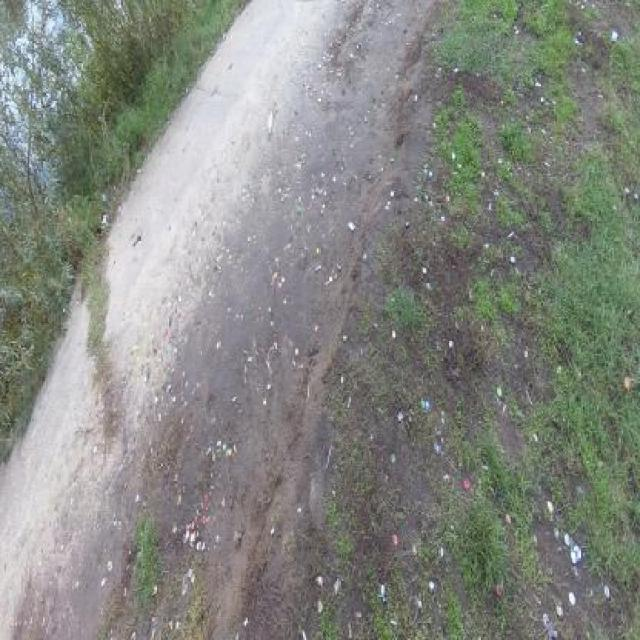Garbage: (564, 531, 582, 568), (266, 107, 274, 139)
